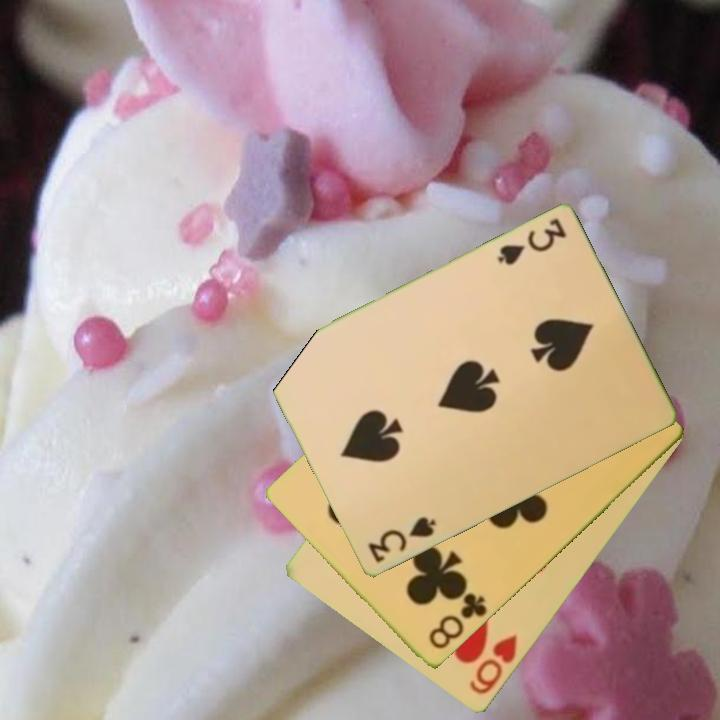3s: (493, 215, 569, 269), (364, 513, 439, 566)
6h: (466, 631, 521, 698)
8c: (425, 590, 490, 653)
